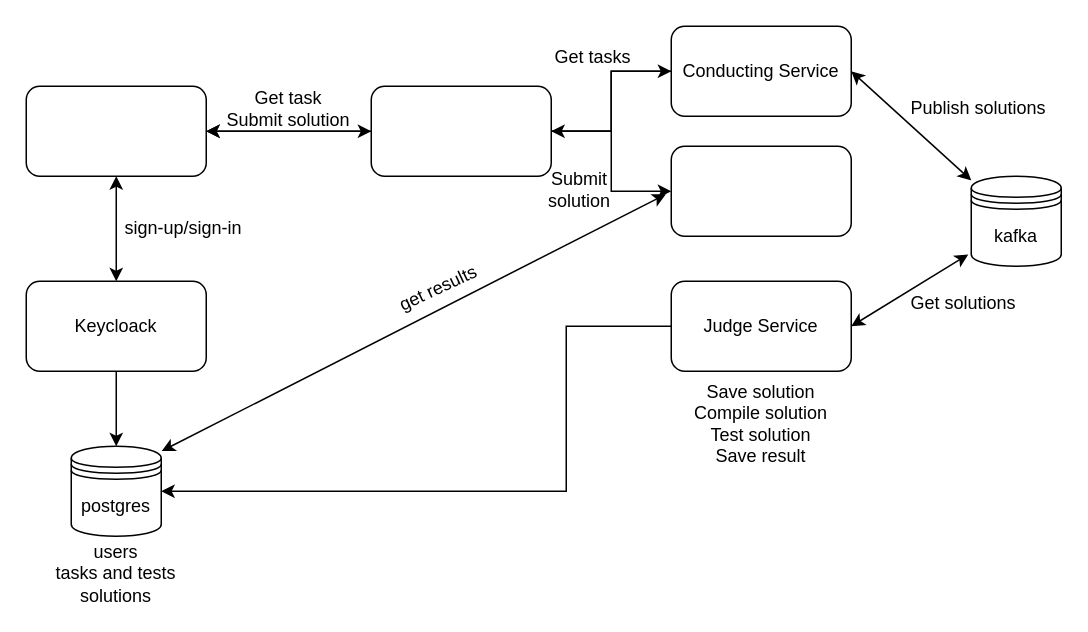
This 1088x632 diagram has some shape labels left out. The shapes that lost their labels are listed below. From the top down, each one's centre as x and y in pixels, then its label:
At point 115,130: "UI".
At point 460,130: "Api Gateway".
At point 760,190: "Manage Exam Service".
